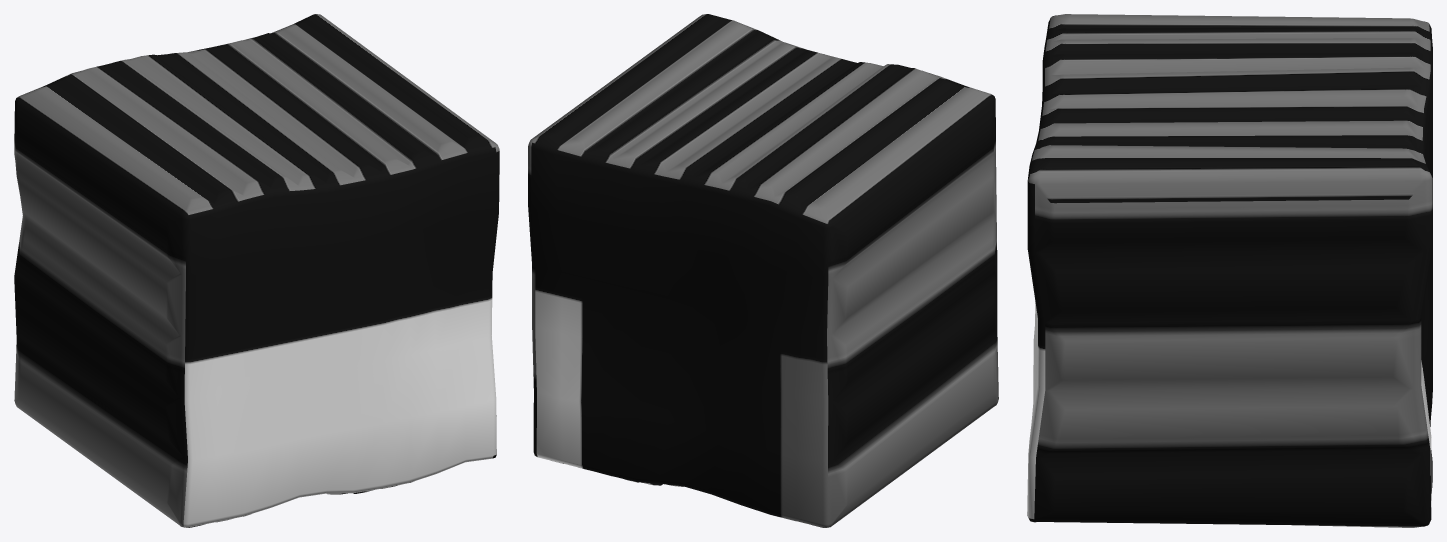
Rendered from Container.fbx.
3 renders of one model, left to right at view 1: azimuth 30°, elevation 25°; view 2: azimuth 150°, elevation 25°; view 3: azimuth 270°, elevation 25°, orthographic. The views are drawn at different scales.
Visible parts, largest first — view 1: Container; view 2: Container; view 3: Container.
Boxes of the visible parts, <box> form: Container: <box>14,14,499,527</box>; Container: <box>528,14,998,527</box>; Container: <box>1027,14,1432,527</box>.
Bounding box in the file's own units: 1.05 × 1.03 × 1.04.
